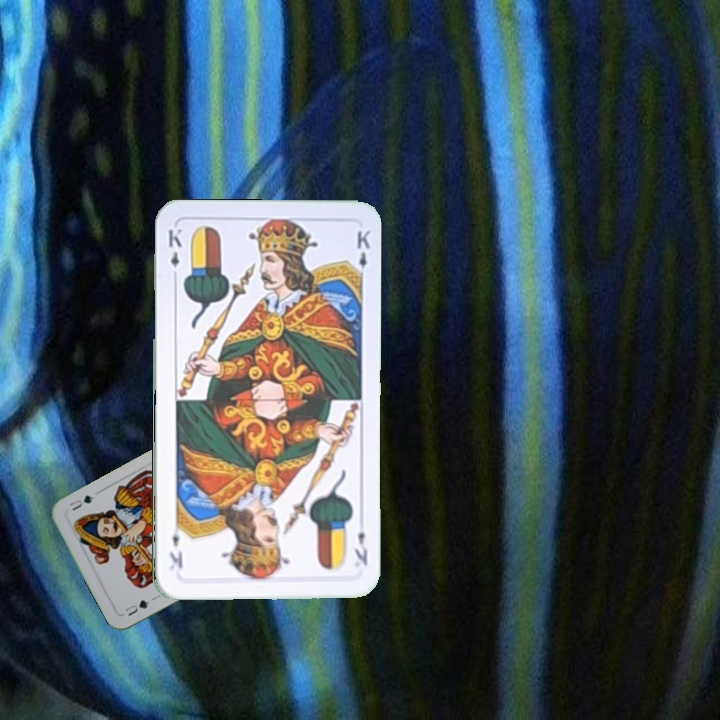EK: (164, 224, 184, 283), (350, 527, 370, 570)
GU: (121, 593, 157, 619)
